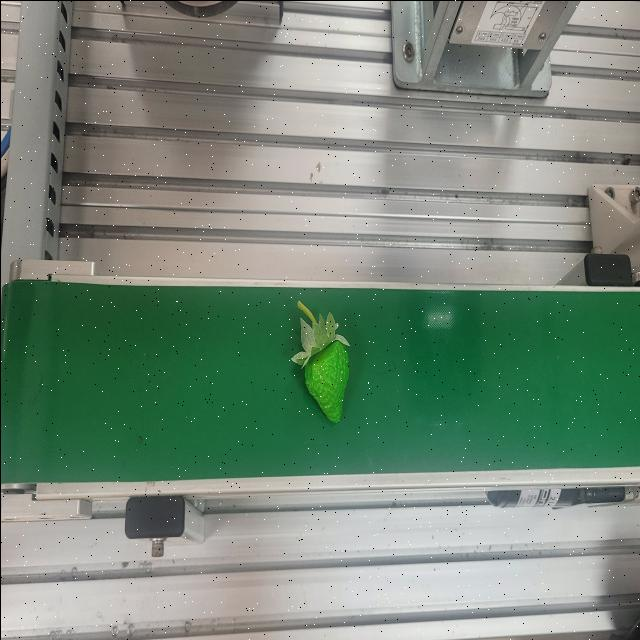Small Unripe Strawberry: (289, 300, 350, 426)
